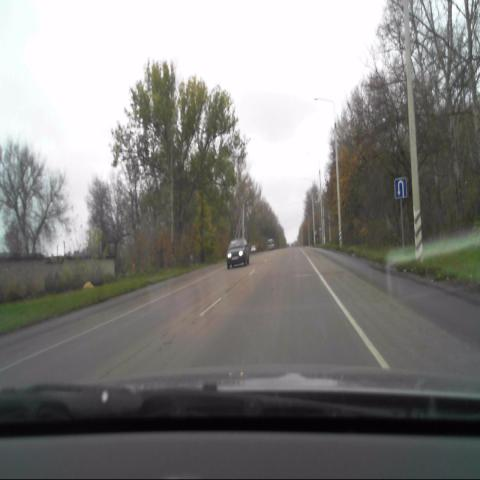6_3_1: (394, 177, 406, 200)
